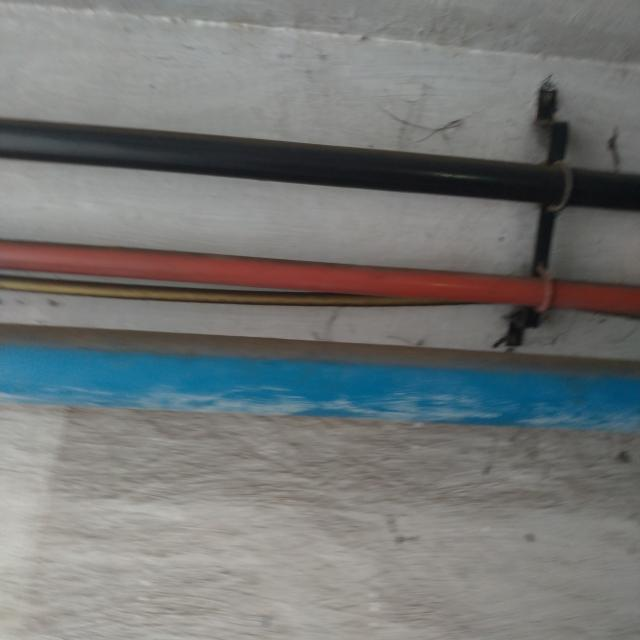gas: (1, 327, 640, 433), (2, 120, 637, 211), (5, 239, 636, 313)
